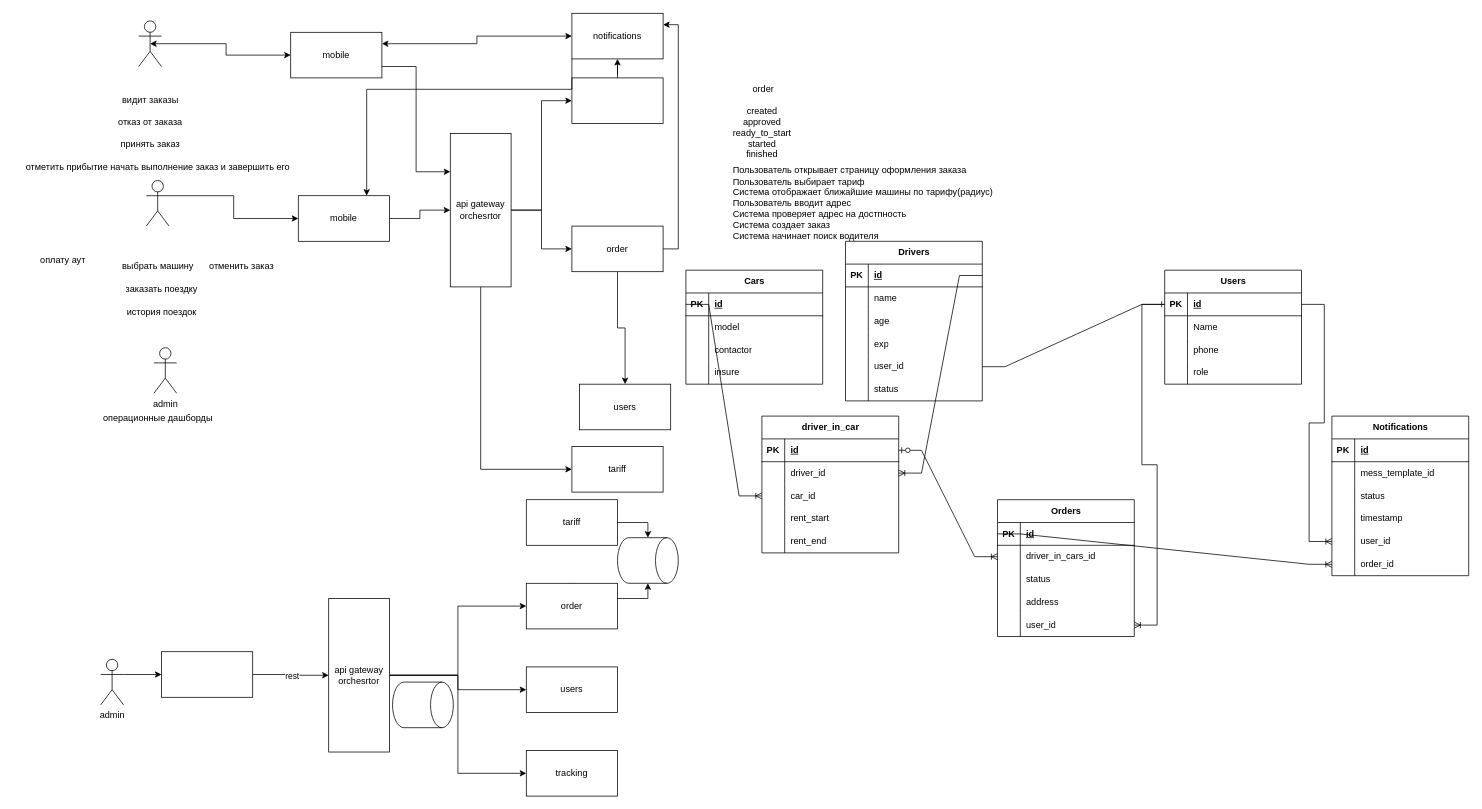
Image size: 1482x809. Some labels were removed from this diagram. The centre of each missing label's shape, as x and y in pixels:
driver: the point at 150,43
user: the point at 157,203
web: the point at 207,674
выбор ма8шин/ водителей: the point at 617,100
